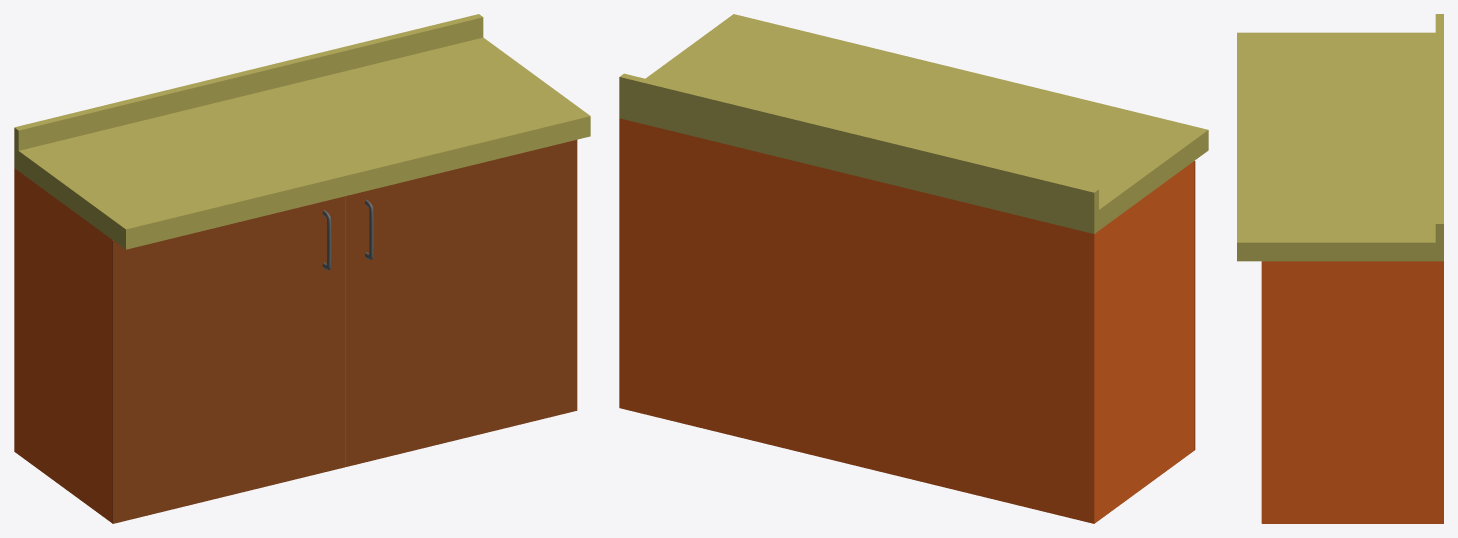
File: cabinet.fbx
3 views of the same model, side by side, from view 1: azimuth 30°, elevation 25°; view 2: azimuth 150°, elevation 25°; view 3: azimuth 270°, elevation 25° (orthographic). The views are drawn at different scales.
Parts seen in each view (by area): view 1: Cabinet1_Door, Cabinet2_Door, Countertop1, Countertop2, Cabinet1; view 2: Cabinet1, Cabinet2, Countertop1, Countertop2; view 3: Cabinet2, Countertop2, Countertop1, Cabinet2_Door.
Part boxes in pixels (x1,y1,x2,y2): Cabinet1_Door: [112, 196, 344, 523]; Cabinet2_Door: [345, 140, 577, 467]; Countertop1: [14, 70, 358, 249]; Countertop2: [247, 14, 590, 192]; Cabinet1: [14, 168, 113, 523]; Cabinet1: [857, 161, 1194, 523]; Cabinet2: [619, 118, 856, 465]; Countertop1: [857, 72, 1208, 233]; Countertop2: [619, 14, 970, 175]; Cabinet2: [1262, 261, 1443, 523]; Countertop2: [1237, 119, 1443, 261]; Countertop1: [1237, 14, 1443, 137]; Cabinet2_Door: [1261, 261, 1261, 523].
Size of the model in its own units: 120 by 80 by 50.
